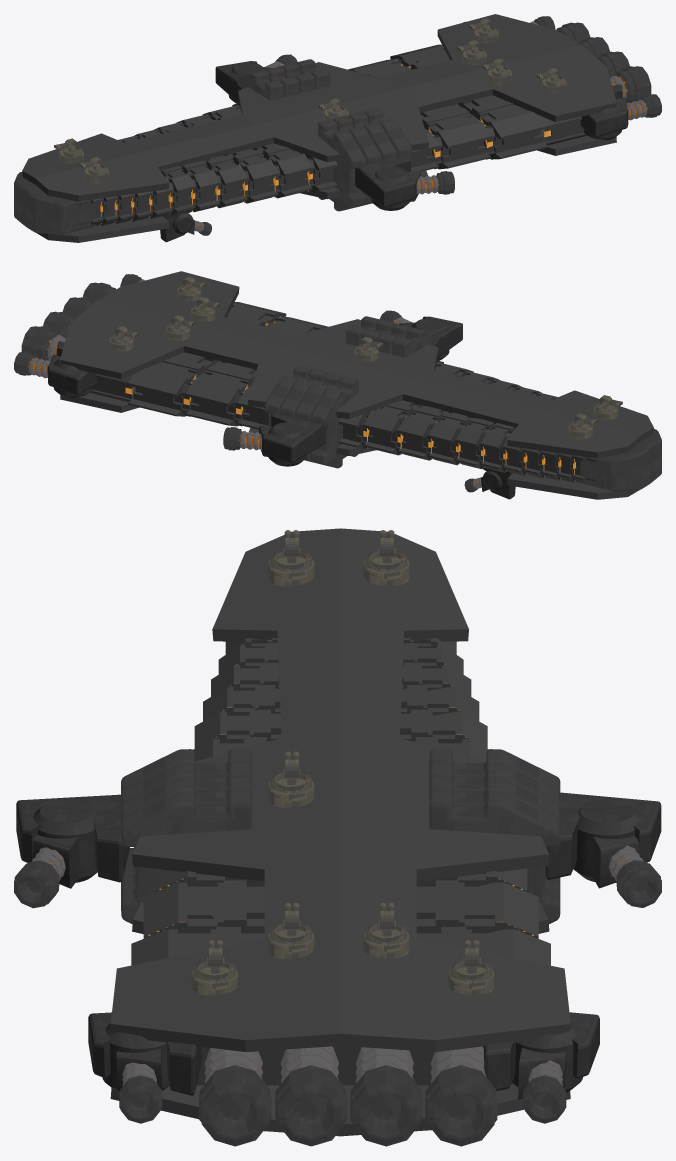
File: colony-tactical.glb
3 views of the same model, one above another, from view 1: azimuth 30°, elevation 25°; view 2: azimuth 150°, elevation 25°; view 3: azimuth 270°, elevation 25° (orthographic). The views are drawn at different scales.
Parts seen in each view (by area): view 1: root; view 2: root; view 3: root.
Boxes of the visible parts, box(x1,y1,x2,y2) form: root: box(14, 14, 661, 242); root: box(14, 271, 661, 499); root: box(14, 528, 661, 1146).
Bounding box in the file's own units: 85 × 13.06 × 42.49.
Materials: 6 (4 with a texture image).
